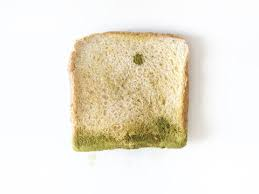mold_bread: (70, 108, 188, 155)
